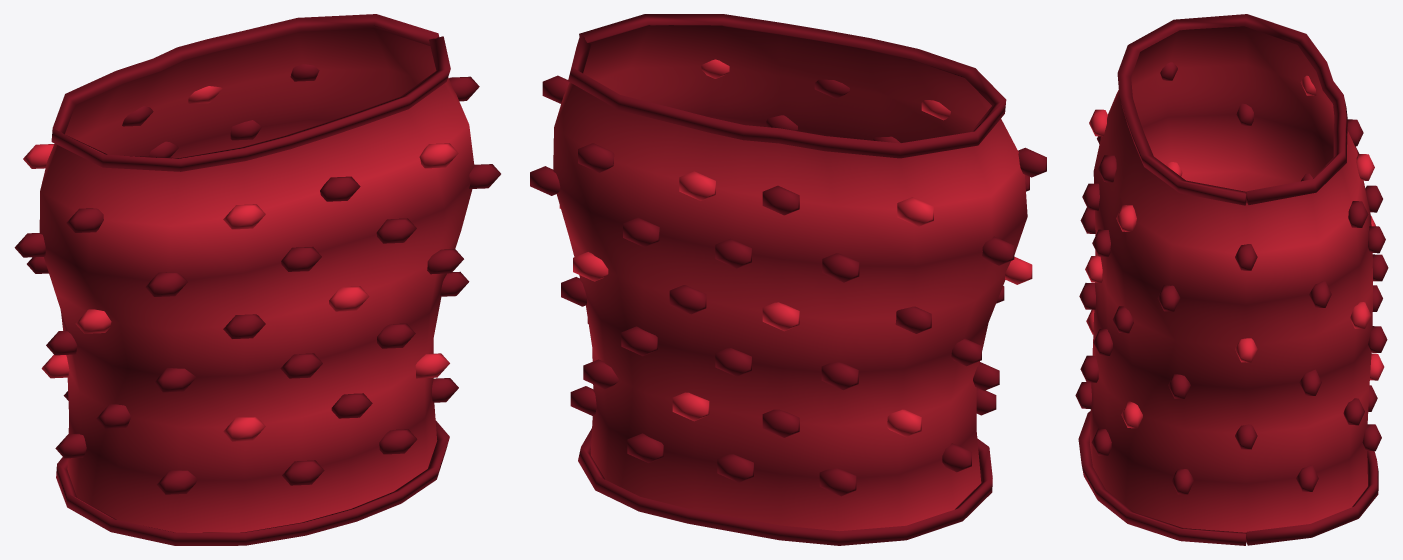
The model's file is adamantite_armor_chest.glb.
3 renders of one model, left to right at view 1: azimuth 30°, elevation 25°; view 2: azimuth 150°, elevation 25°; view 3: azimuth 270°, elevation 25°, orthographic. The views are drawn at different scales.
Parts seen in each view (by area): view 1: adamantite_armor_chest; view 2: adamantite_armor_chest; view 3: adamantite_armor_chest.
Part boxes in pixels (x1,y1,x2,y2): adamantite_armor_chest: [14, 14, 500, 545]; adamantite_armor_chest: [530, 14, 1046, 545]; adamantite_armor_chest: [1075, 14, 1388, 545].
Size of the model in its own units: 0.4834 by 0.3859 by 0.3018.
